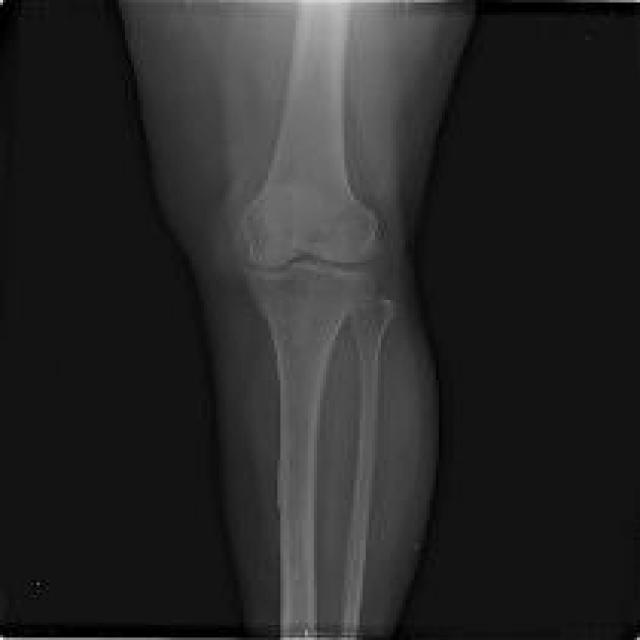normal: (242, 265, 375, 639), (241, 2, 378, 265), (343, 298, 391, 639)
